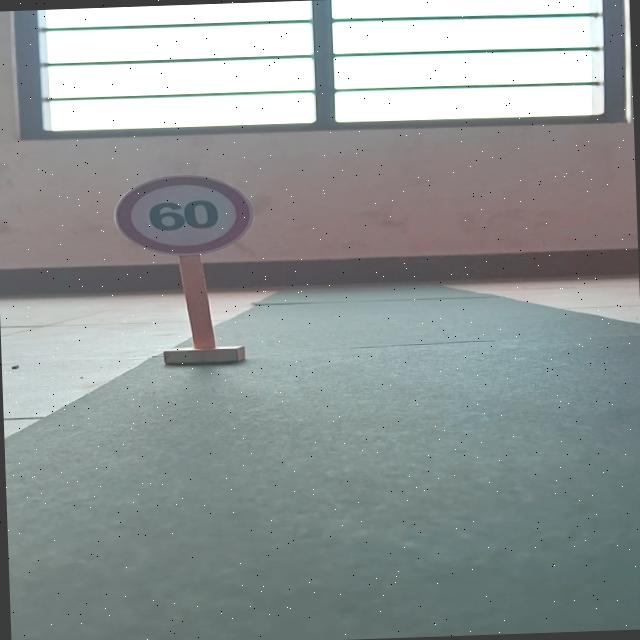Speed60: (107, 169, 260, 260)
